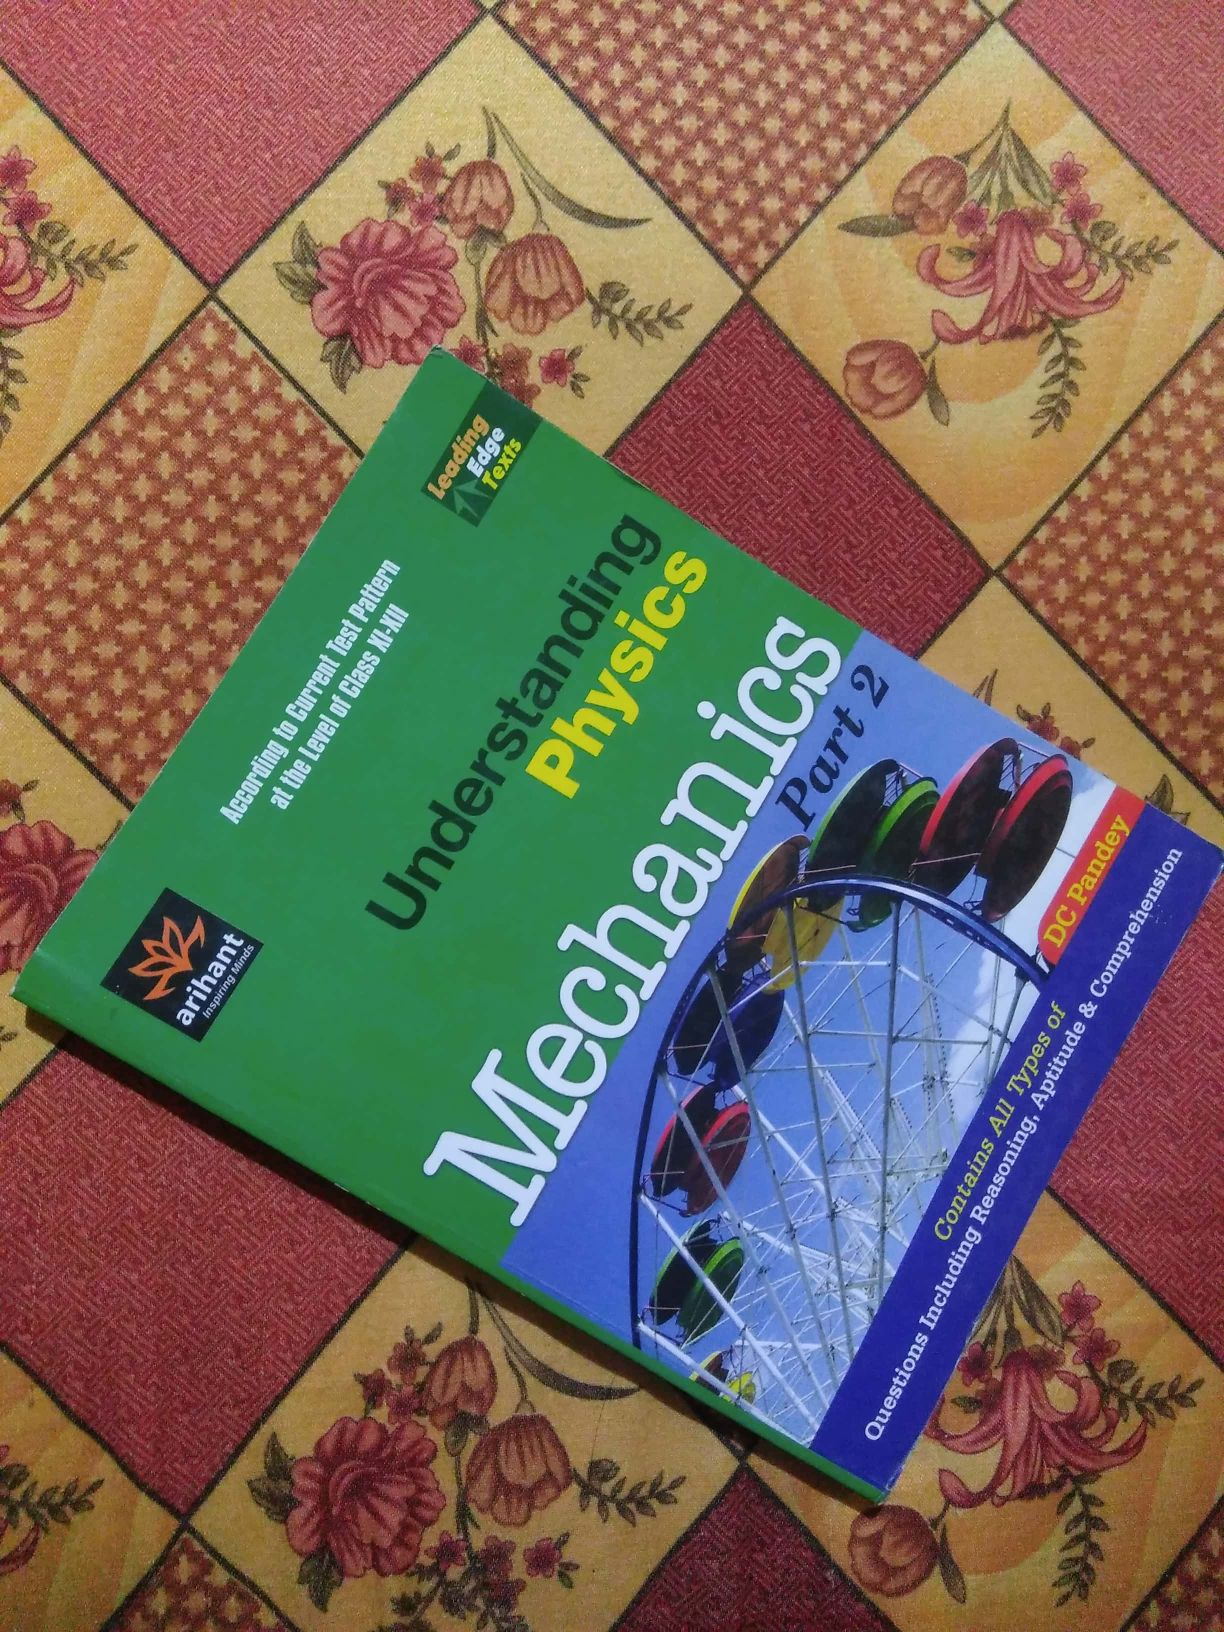mechanics: (48, 341, 1209, 1541)
